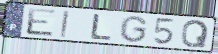5: (153, 16, 175, 46)
E: (25, 7, 58, 38)
G: (118, 15, 149, 44)
I: (59, 9, 72, 39)
L: (89, 12, 114, 41)
Q: (180, 19, 210, 49)
